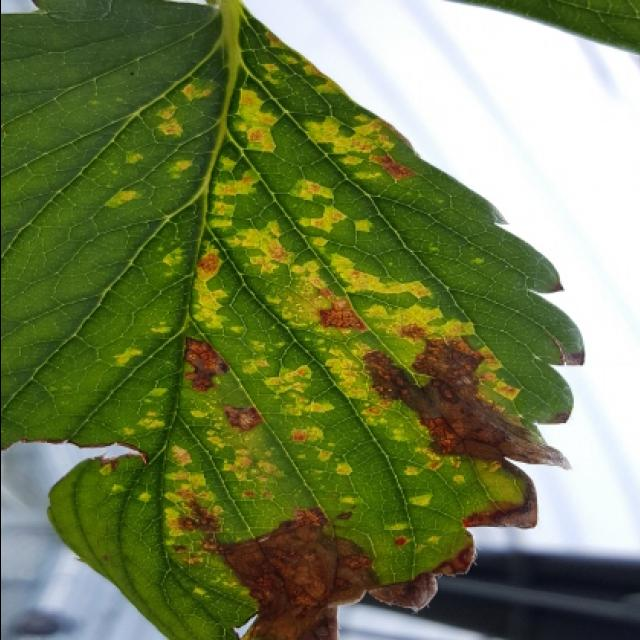Angular Leafspot: (41, 23, 586, 638)
